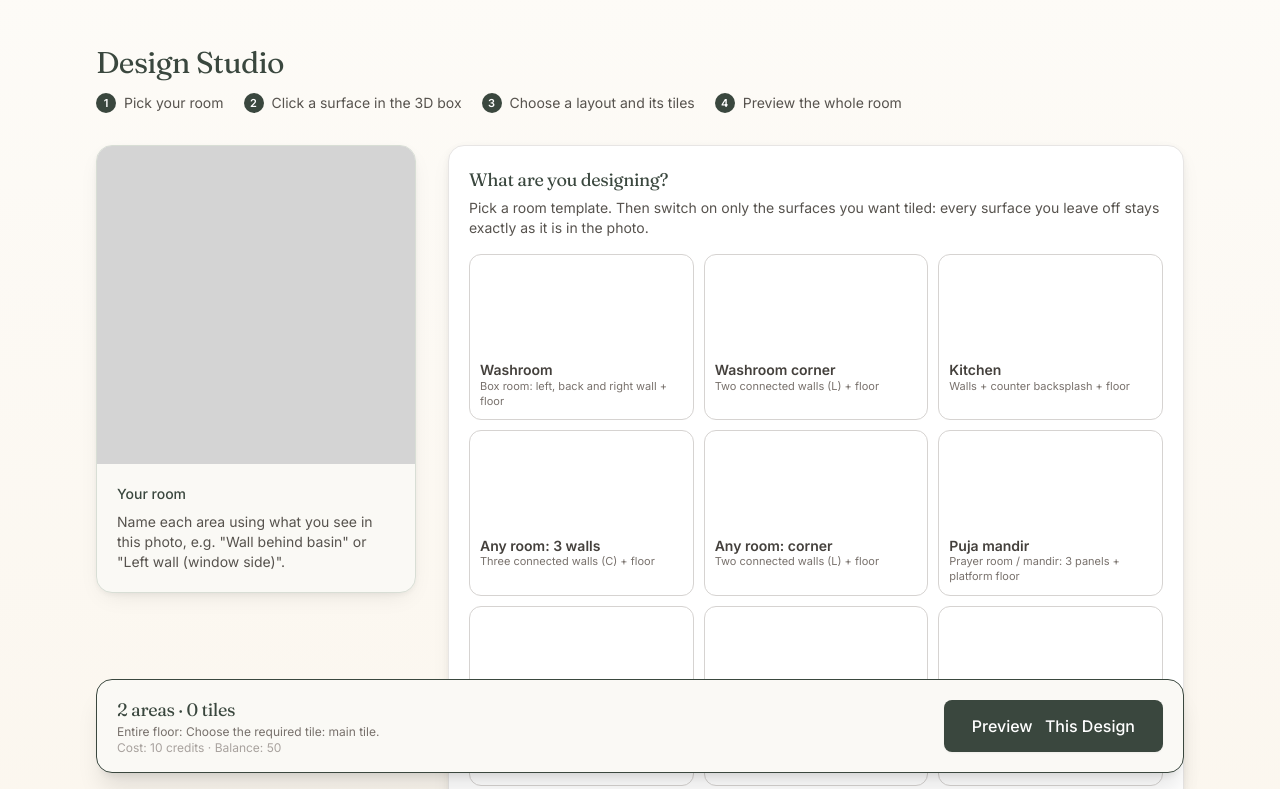
Test: Design Studio › numbered walls carry the same name as the switch list; clicking a kept wall in the 3D box says it was switched on
Click the radio button labelled "Washroom Box room: left, back and right wall + floor". click: point(581, 337)
box: [469,254,694,420]
(page scrolled)
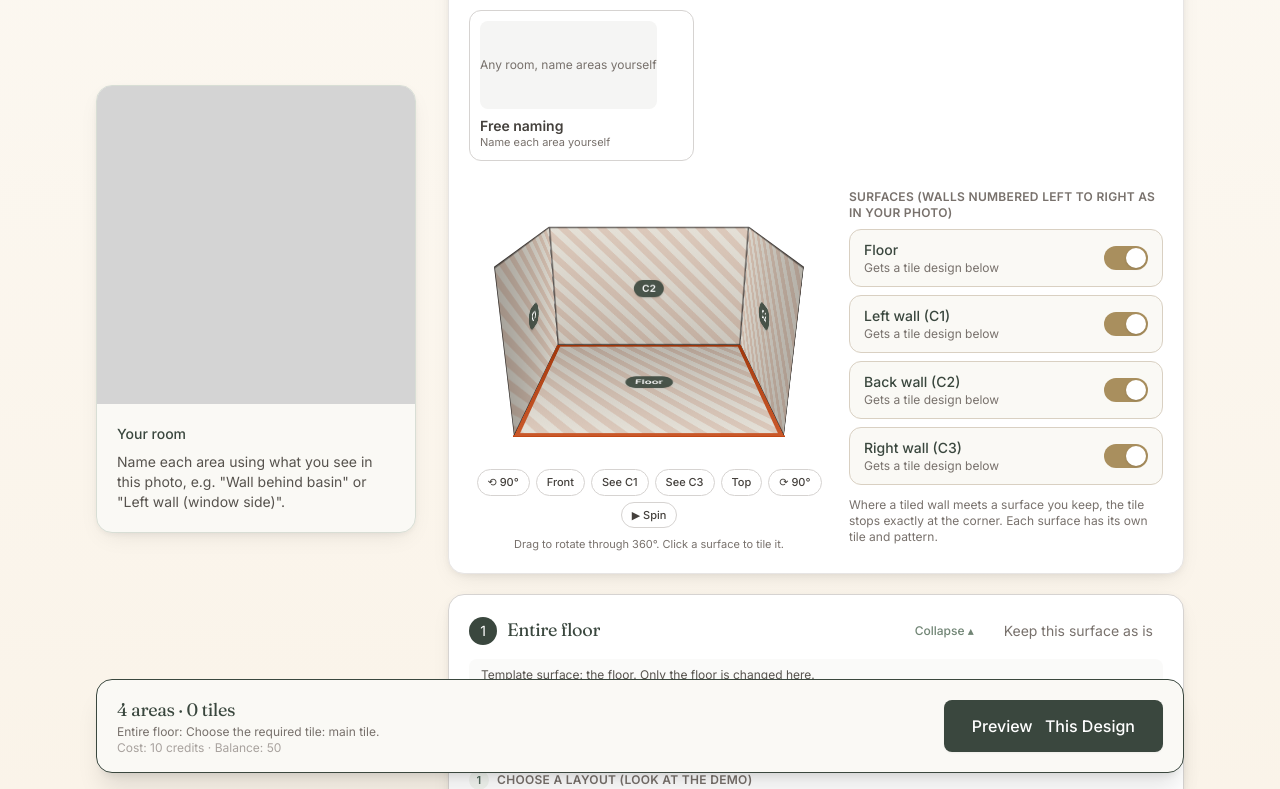
Click the switch labelled "Back wall (C2) Gets a tile design below". click: point(912, 381)
box: [849,361,1163,419]
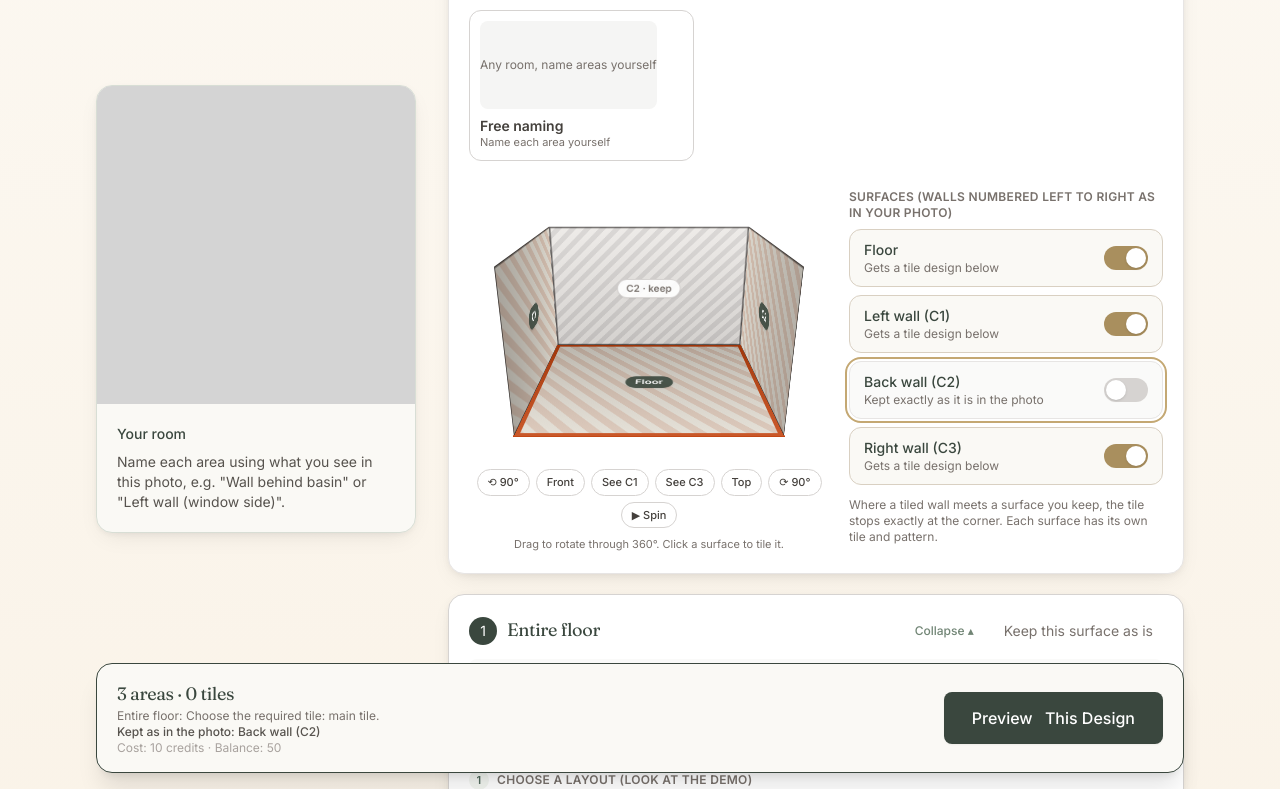
Click the button with aria-label "Back wall (C2): kept as in the photo. Click to edit it.". click: point(649, 286)
box: [549,227,749,345]
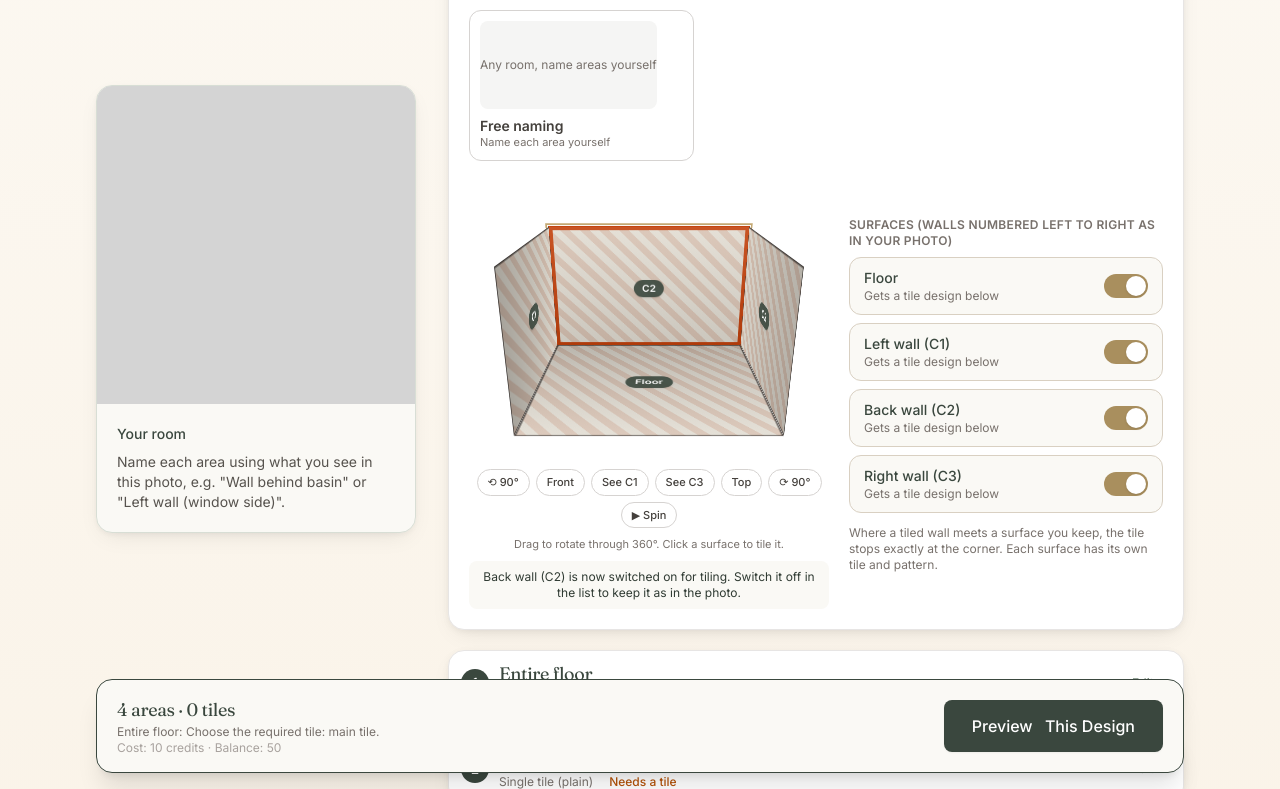
Check: the text "Back wall (C2) is now switched on for tiling" is shown, box [483,568,815,600]
